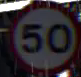Speed limit: (9, 1, 80, 74)
